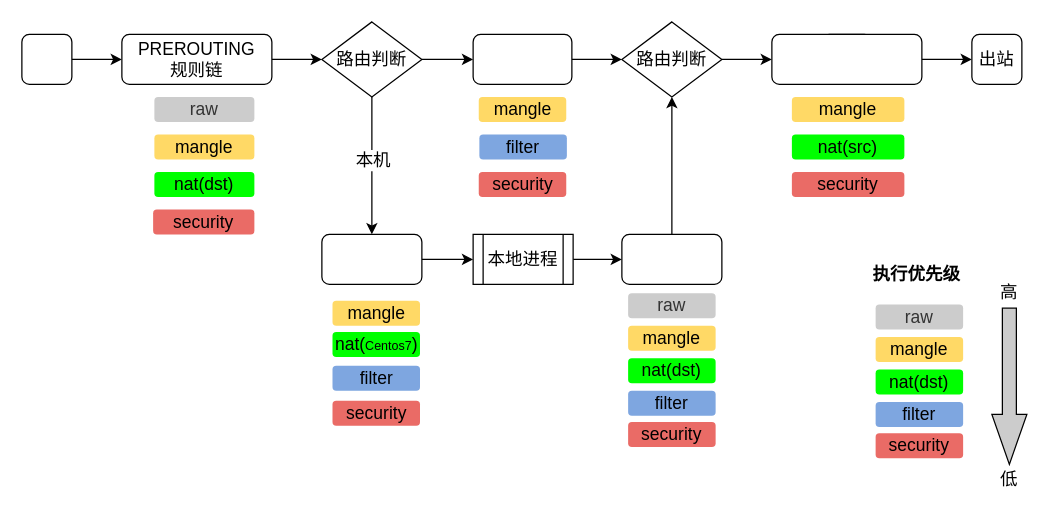
Some shapes in this 1056 by 514 pixel diagram are drawn without their labels. The shapes that lost their labels are listed below. From the top down, each one's centre as x and y in pixels, then its label:
At (46,58): "入站".
At (522,58): "FORWARD 规则链".
At (846,58): "POSTROUTING 规则链".
At (371,258): "INPUT 规则链".
At (671,258): "OUTPUT 规则链".
